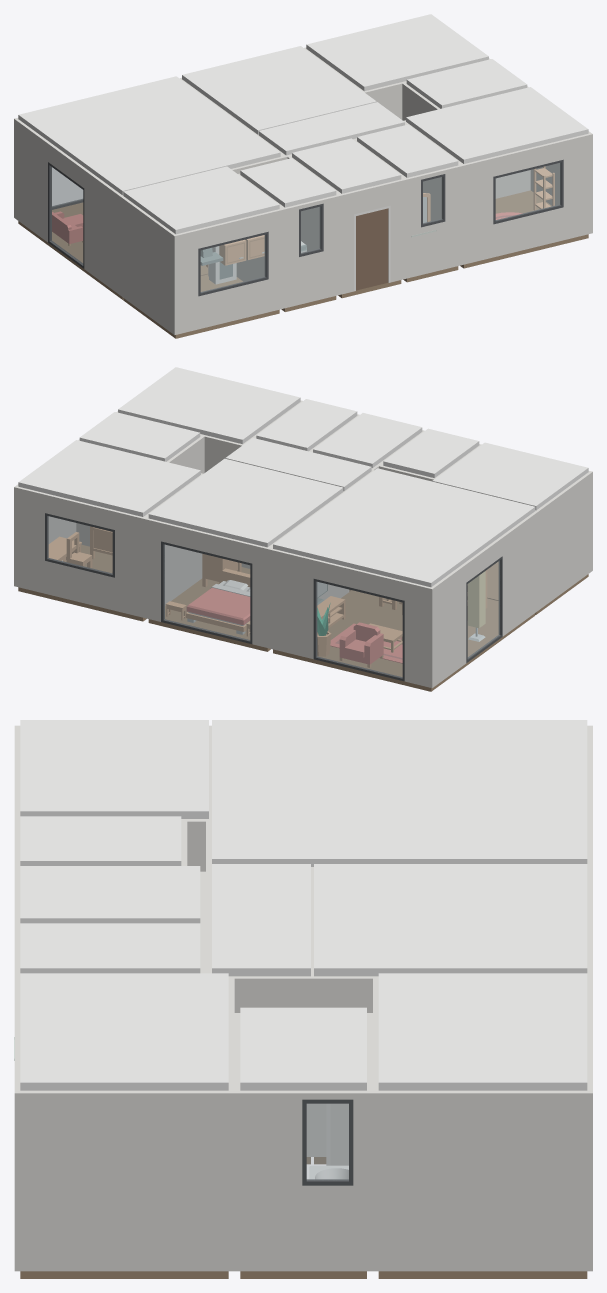
File: room.glb
3 renders of one model, top to bottom at view 1: azimuth 30°, elevation 25°; view 2: azimuth 150°, elevation 25°; view 3: azimuth 270°, elevation 25°, orthographic. The views are drawn at different scales.
Visible parts, largest first — view 1: ceiling_salon, wall_pokoj-poludnie_0, ceiling_pokoj-srodek, wall_salon_3, ceiling_pokoj-poludnie, wall_kuchnia_0, ceiling_pokoj-polnoc, ceiling_kuchnia, wall_kuchnia_3, wall_kotlownia_0, wall_lazienka-mala_0, wall_wiatrolap_0 (+25 smaller); view 2: ceiling_salon, wall_pokoj-polnoc_2, ceiling_pokoj-srodek, wall_salon_2, wall_salon_3, ceiling_pokoj-polnoc, ceiling_pokoj-poludnie, glass_salon_glass_4, glass_pokoj-srodek_glass_4, wall_kuchnia_3, ceiling_kuchnia, wall_pokoj-srodek_2 (+25 smaller); view 3: ceiling_salon, wall_pokoj-poludnie_1, wall_pokoj-polnoc_1, ceiling_pokoj-srodek, ceiling_pokoj-polnoc, ceiling_pokoj-poludnie, wall_lazienka-duza_1, ceiling_kuchnia, ceiling_korytarz, ceiling_lazienka-duza, ceiling_wiatrolap, ceiling_lazienka-mala (+12 smaller).
Boxes of the visible parts, x1=… form: ceiling_salon: x1=18, y1=76, x2=280, y2=195; wall_pokoj-poludnie_0: x1=462, y1=133, x2=592, y2=264; ceiling_pokoj-srodek: x1=182, y1=46, x2=376, y2=134; wall_salon_3: x1=14, y1=118, x2=122, y2=295; ceiling_pokoj-poludnie: x1=406, y1=87, x2=588, y2=163; wall_kuchnia_0: x1=174, y1=209, x2=283, y2=334; ceiling_pokoj-polnoc: x1=306, y1=14, x2=488, y2=91; ceiling_kuchnia: x1=123, y1=166, x2=279, y2=234; wall_kuchnia_3: x1=121, y1=196, x2=175, y2=334; wall_kotlownia_0: x1=284, y1=195, x2=340, y2=308; wall_lazienka-mala_0: x1=406, y1=165, x2=462, y2=278; wall_wiatrolap_0: x1=340, y1=179, x2=405, y2=294; ceiling_salon: x1=273, y1=468, x2=535, y2=587; wall_pokoj-polnoc_2: x1=14, y1=486, x2=144, y2=617; ceiling_pokoj-srodek: x1=148, y1=458, x2=343, y2=547; wall_salon_2: x1=268, y1=549, x2=432, y2=687; wall_salon_3: x1=431, y1=510, x2=539, y2=687; ceiling_pokoj-polnoc: x1=18, y1=440, x2=200, y2=516; ceiling_pokoj-poludnie: x1=118, y1=367, x2=300, y2=444; glass_salon_glass_4: x1=316, y1=582, x2=402, y2=677; glass_pokoj-srodek_glass_4: x1=164, y1=544, x2=249, y2=640; wall_kuchnia_3: x1=536, y1=471, x2=592, y2=610; ceiling_kuchnia: x1=432, y1=442, x2=588, y2=510; wall_pokoj-srodek_2: x1=144, y1=518, x2=268, y2=648; ceiling_salon: x1=212, y1=720, x2=587, y2=866; wall_pokoj-poludnie_1: x1=14, y1=1090, x2=234, y2=1271; wall_pokoj-polnoc_1: x1=373, y1=1090, x2=592, y2=1271; ceiling_pokoj-srodek: x1=314, y1=864, x2=587, y2=976; ceiling_pokoj-polnoc: x1=378, y1=973, x2=587, y2=1090; ceiling_pokoj-poludnie: x1=20, y1=973, x2=228, y2=1090; wall_lazienka-duza_1: x1=234, y1=1090, x2=372, y2=1271; ceiling_kuchnia: x1=20, y1=720, x2=208, y2=818; ceiling_korytarz: x1=212, y1=864, x2=310, y2=976; ceiling_lazienka-duza: x1=240, y1=1007, x2=366, y2=1090; ceiling_wiatrolap: x1=20, y1=866, x2=200, y2=923; ceiling_lazienka-mala: x1=20, y1=923, x2=200, y2=973.
Bounding box in the file's own units: 11.94 × 2.97 × 7.95.
